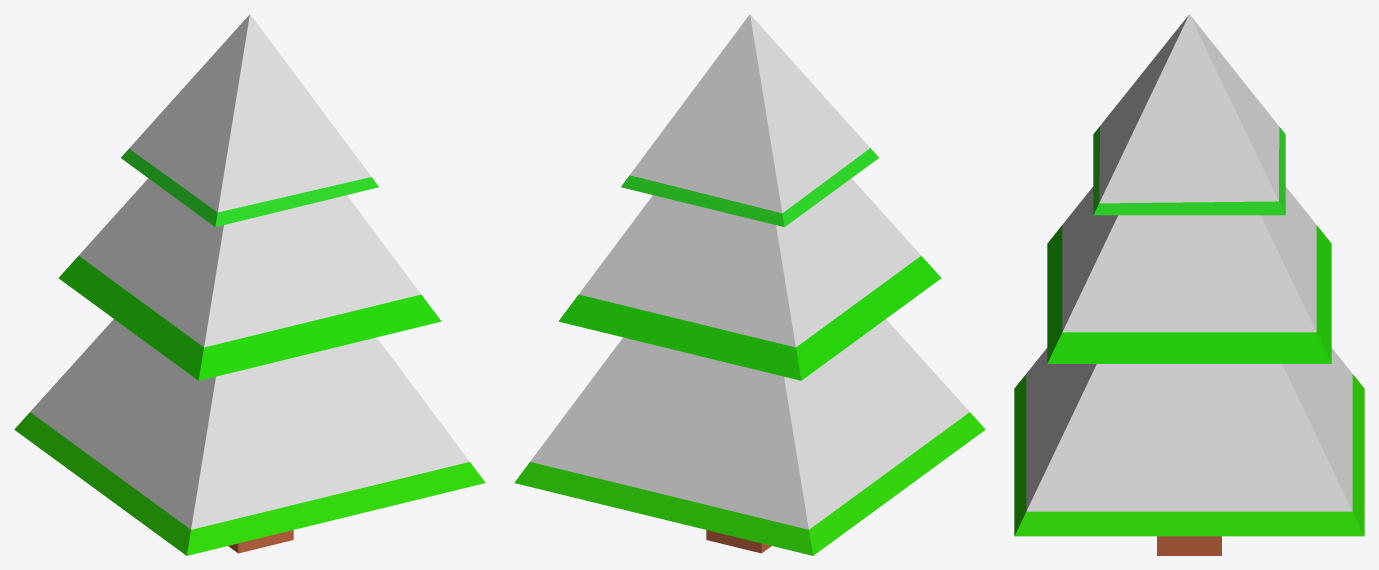
Rendered from FirModel.fbx.
The picture shows the model from 3 angles, left to right: view 1: azimuth 30°, elevation 25°; view 2: azimuth 150°, elevation 25°; view 3: azimuth 270°, elevation 25°; orthographic projection.
Parts seen in each view (by area): view 1: Cube.001, Cube.002, Cone.001, Cube; view 2: Cube.001, Cube.002, Cone.001, Cube; view 3: Cube.001, Cube.002, Cone.001, Cube.
Part boxes in pixels (left/top/right/bottom): Cube.001: left=14, top=319, right=485, bottom=555; Cube.002: left=58, top=178, right=441, bottom=380; Cone.001: left=121, top=14, right=378, bottom=226; Cube: left=228, top=530, right=293, bottom=553; Cube.001: left=514, top=319, right=985, bottom=555; Cube.002: left=558, top=178, right=941, bottom=380; Cone.001: left=621, top=14, right=878, bottom=226; Cube: left=706, top=530, right=771, bottom=553; Cube.001: left=1014, top=348, right=1364, bottom=536; Cube.002: left=1047, top=186, right=1331, bottom=363; Cone.001: left=1093, top=14, right=1285, bottom=215; Cube: left=1157, top=536, right=1221, bottom=555.
Size of the model in its own units: 79.73 by 79.73 by 133.
